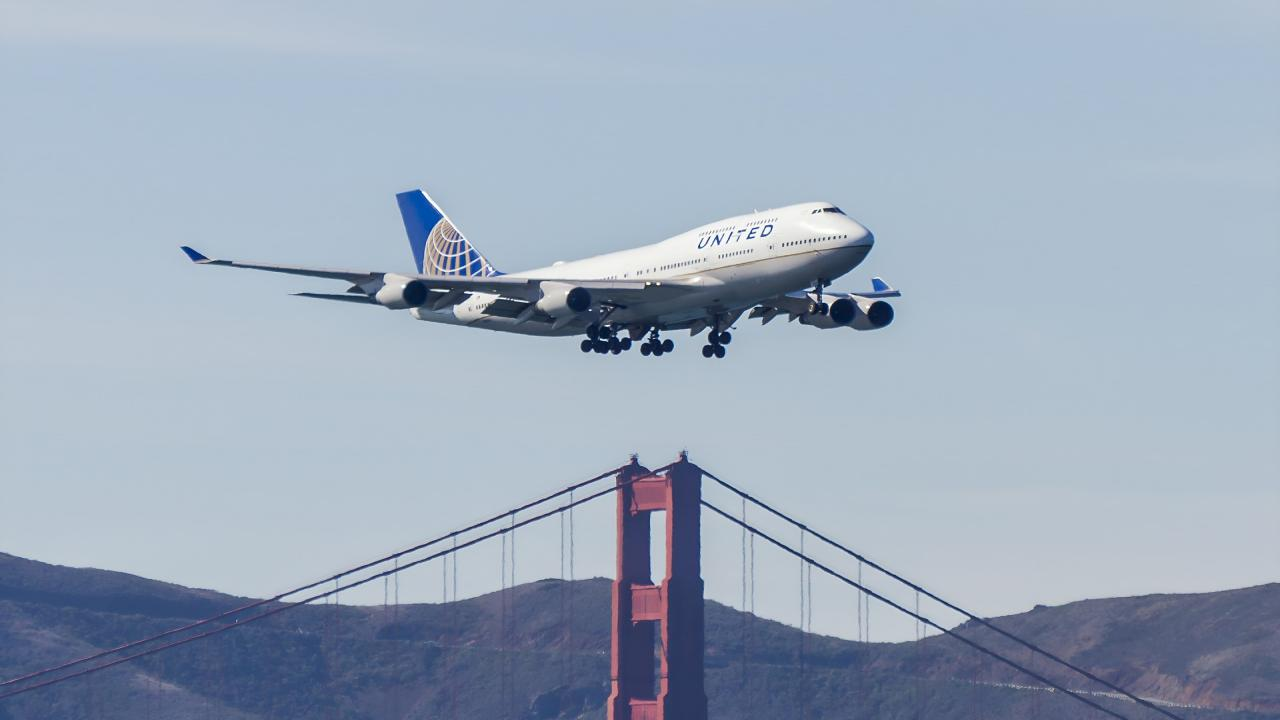Airplane: (158, 167, 925, 375)
